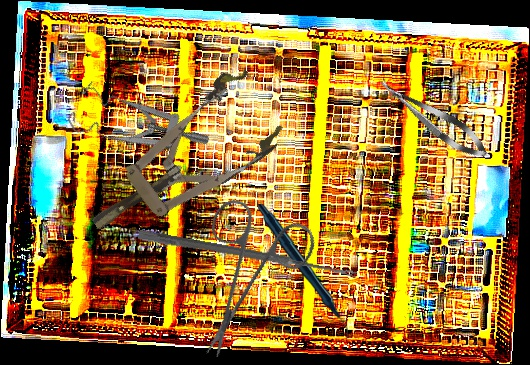Handpiece: (255, 204, 351, 339)
Iris Scissors: (156, 176, 342, 361)
Micro Scissor: (373, 70, 493, 166)
Speculum: (67, 61, 294, 261), (58, 57, 213, 200)
Surgical Spoon: (137, 229, 358, 280)
